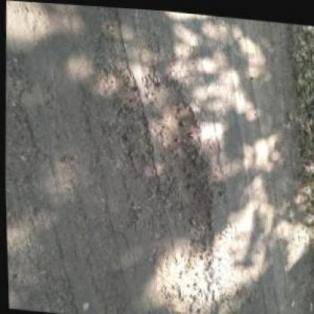Hueco: (143, 77, 222, 264)
